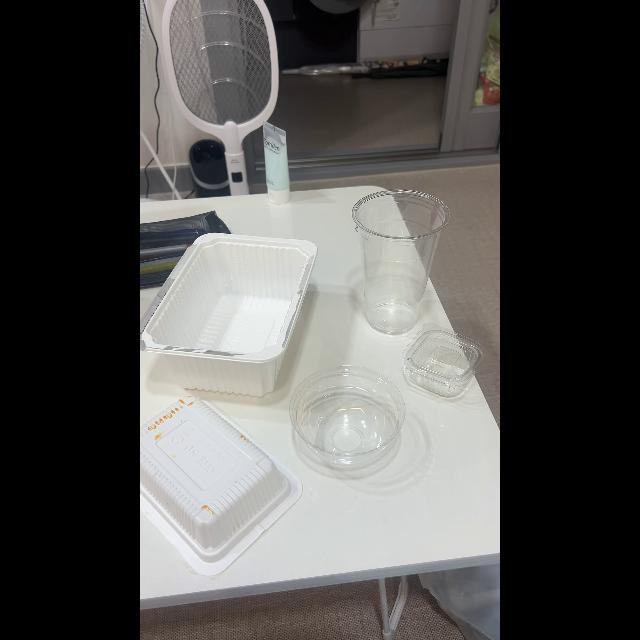clean: (141, 237, 312, 397), (295, 378, 409, 474), (354, 192, 428, 336), (410, 343, 480, 395)
dirty: (141, 396, 279, 552)
